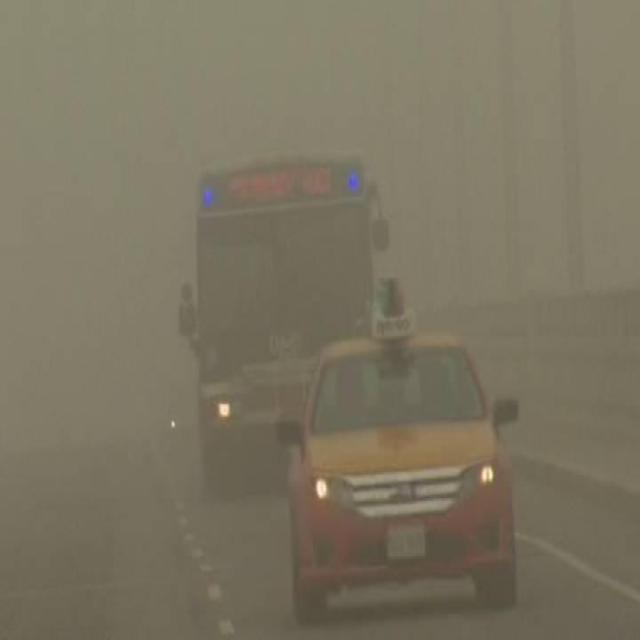Bus: (177, 148, 403, 502)
Car: (277, 282, 520, 610)
